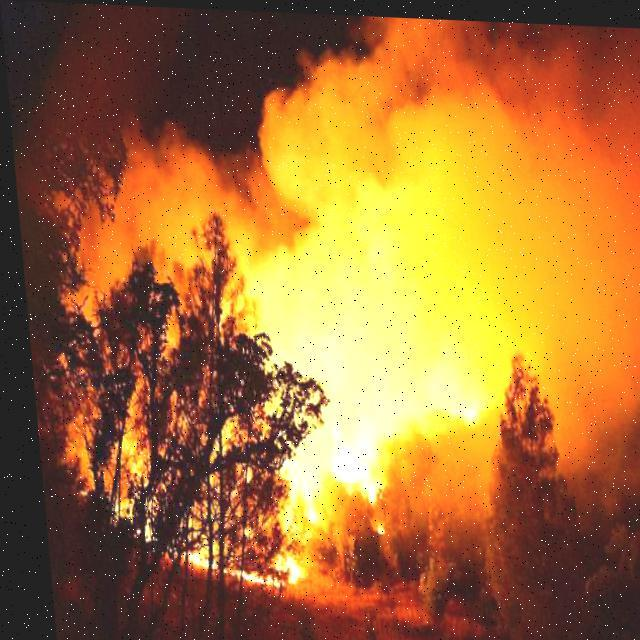Fire: (59, 252, 503, 598)
